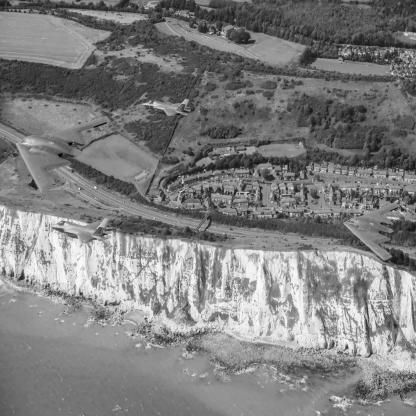B2: (17, 117, 112, 194), (344, 203, 402, 262)
F35: (51, 219, 113, 245), (143, 99, 192, 117)
